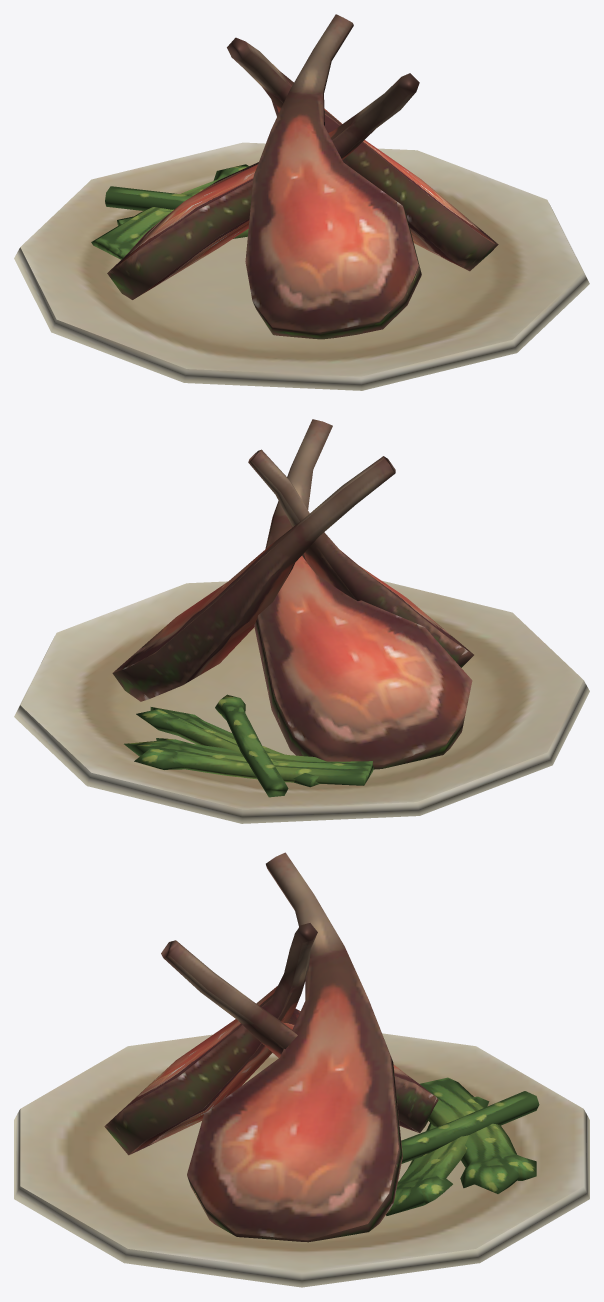
The model's file is RackofLamb_Dish.fbx.
3 renders of one model, top to bottom at view 1: azimuth 30°, elevation 25°; view 2: azimuth 150°, elevation 25°; view 3: azimuth 270°, elevation 25°, orthographic. The views are drawn at different scales.
Parts seen in each view (by area): view 1: RackofLamb_Dish; view 2: RackofLamb_Dish; view 3: RackofLamb_Dish.
Part boxes in pixels (box(x1,y1,x2,y2)): RackofLamb_Dish: box(14, 14, 589, 390); RackofLamb_Dish: box(14, 419, 589, 823); RackofLamb_Dish: box(14, 852, 589, 1287).
Bounding box in the file's own units: 0.6242 × 0.3329 × 0.5936.
1 material, 1 textured.
